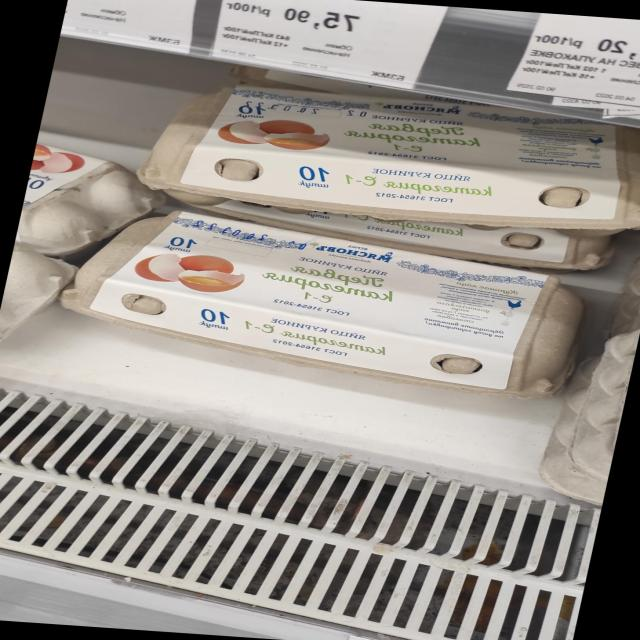organic waste: (49, 202, 612, 398), (130, 81, 640, 237)
